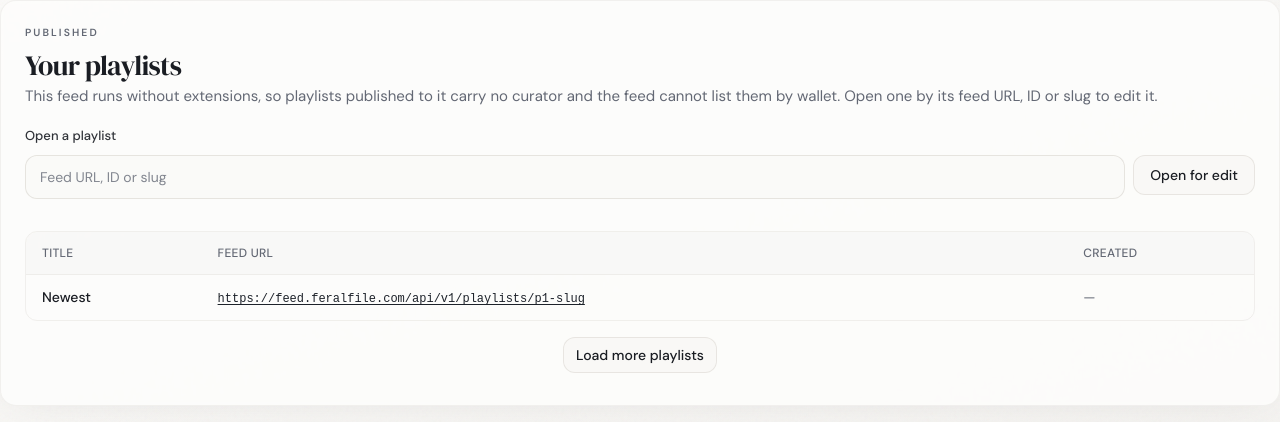
Test: PublishedView — feed-backed lists › pages with the feed cursor via "Load more"
Click the button "Load more playlists": click(640, 355) [563,337,717,373]
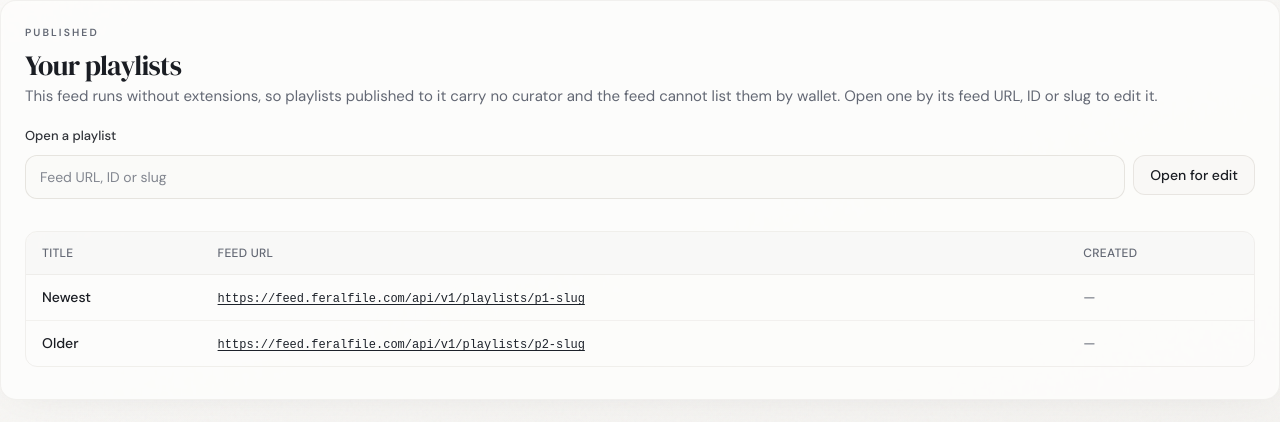
Expected: the text "Newest" is shown, [42,288,91,306]
Now the text "Older" is shown, box [42,334,79,352]
Now the button "Load more" is gone
